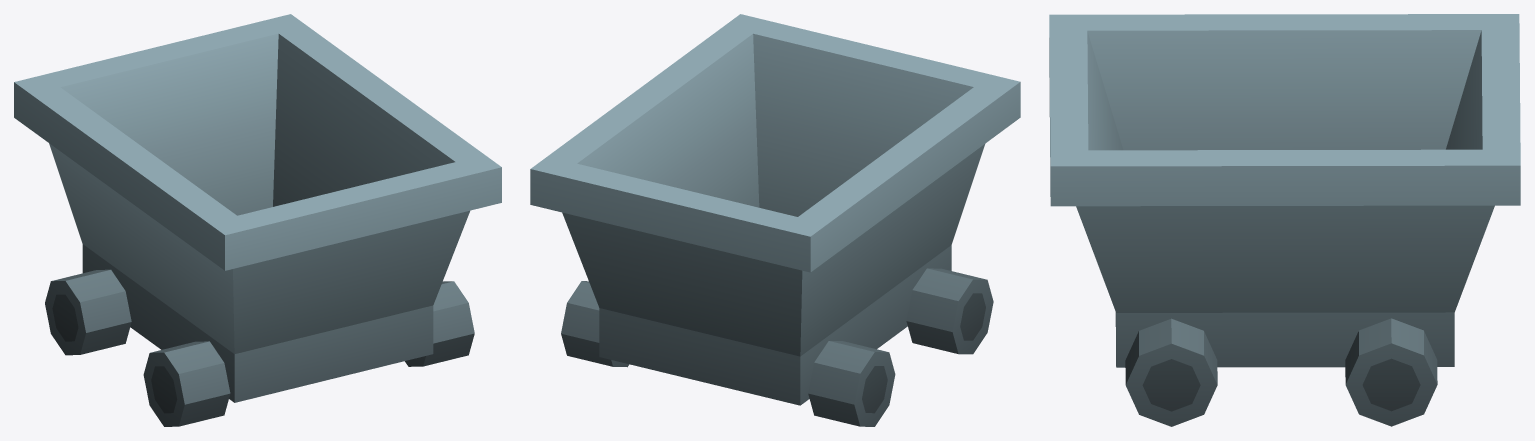
The model's file is mining trolley.fbx.
3 views of the same model, side by side, from view 1: azimuth 30°, elevation 25°; view 2: azimuth 150°, elevation 25°; view 3: azimuth 270°, elevation 25° (orthographic). The views are drawn at different scales.
Visible parts, largest first — view 1: mining_trolley; view 2: mining_trolley; view 3: mining_trolley.
Part boxes in pixels (box(x1,y1,x2,y2)): mining_trolley: box(14, 14, 501, 426); mining_trolley: box(530, 14, 1020, 426); mining_trolley: box(1049, 14, 1520, 426).
Bounding box in the file's own units: 135 × 102 × 169.
Materials: 1 (1 with a texture image).
